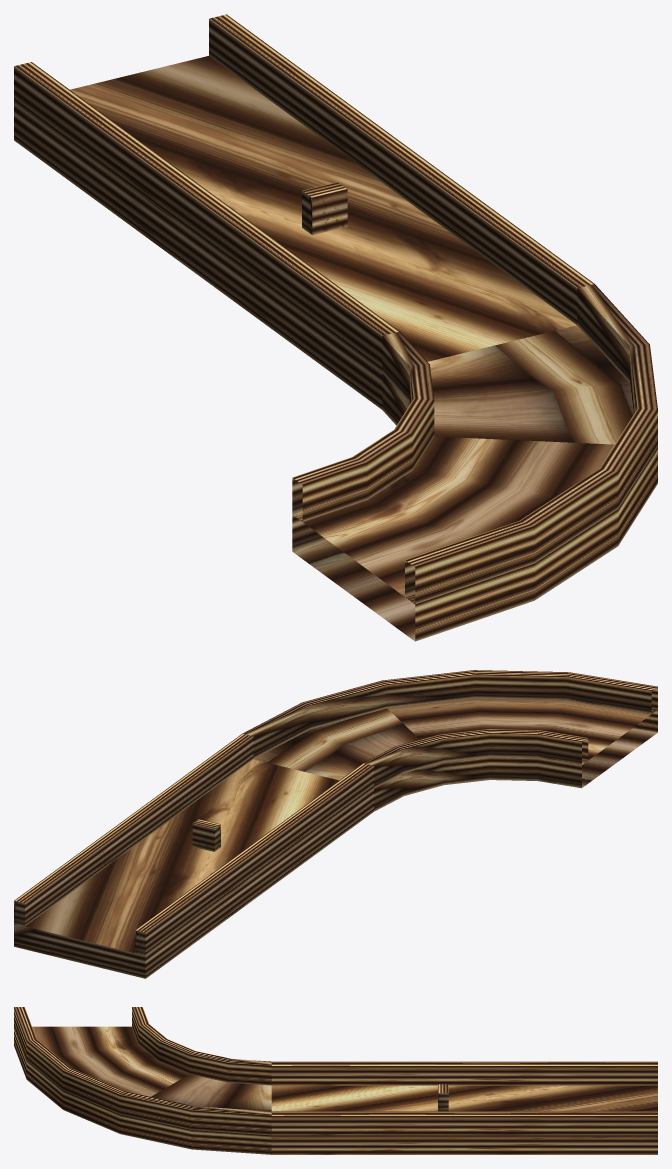
File: Q - Outside Window End.obj
3 renders of one model, top to bottom at view 1: azimuth 30°, elevation 25°; view 2: azimuth 150°, elevation 25°; view 3: azimuth 270°, elevation 25°, orthographic. The views are drawn at different scales.
Parts seen in each view (by area): view 1: polySurface17; view 2: polySurface17; view 3: polySurface17.
Boxes of the visible parts, box(x1,y1,x2,y2) form: polySurface17: box(14, 14, 657, 641); polySurface17: box(14, 670, 657, 978); polySurface17: box(14, 1007, 657, 1154).
Bounding box in the file's own units: 840 × 140 × 2100.
